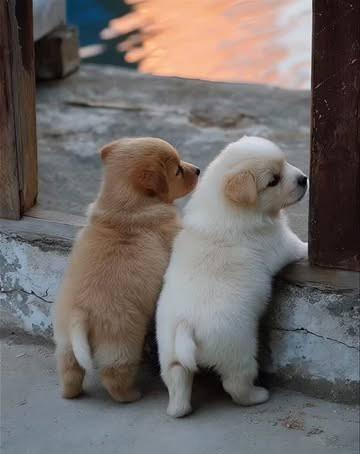puppy-dog: (154, 133, 311, 422), (48, 137, 201, 405)
